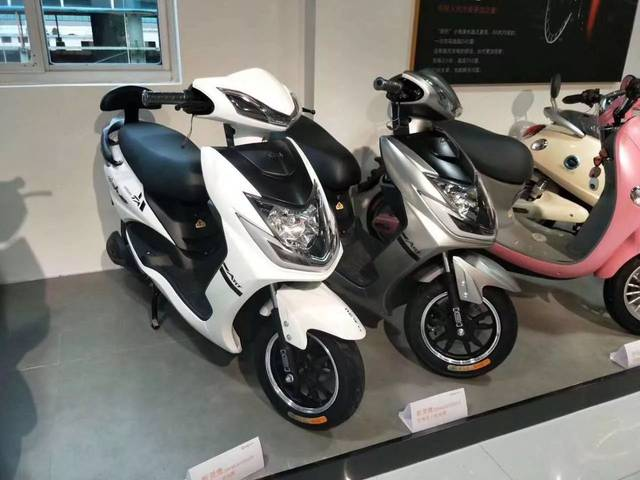电动车: (77, 65, 379, 446), (250, 64, 529, 383), (400, 80, 640, 322)
